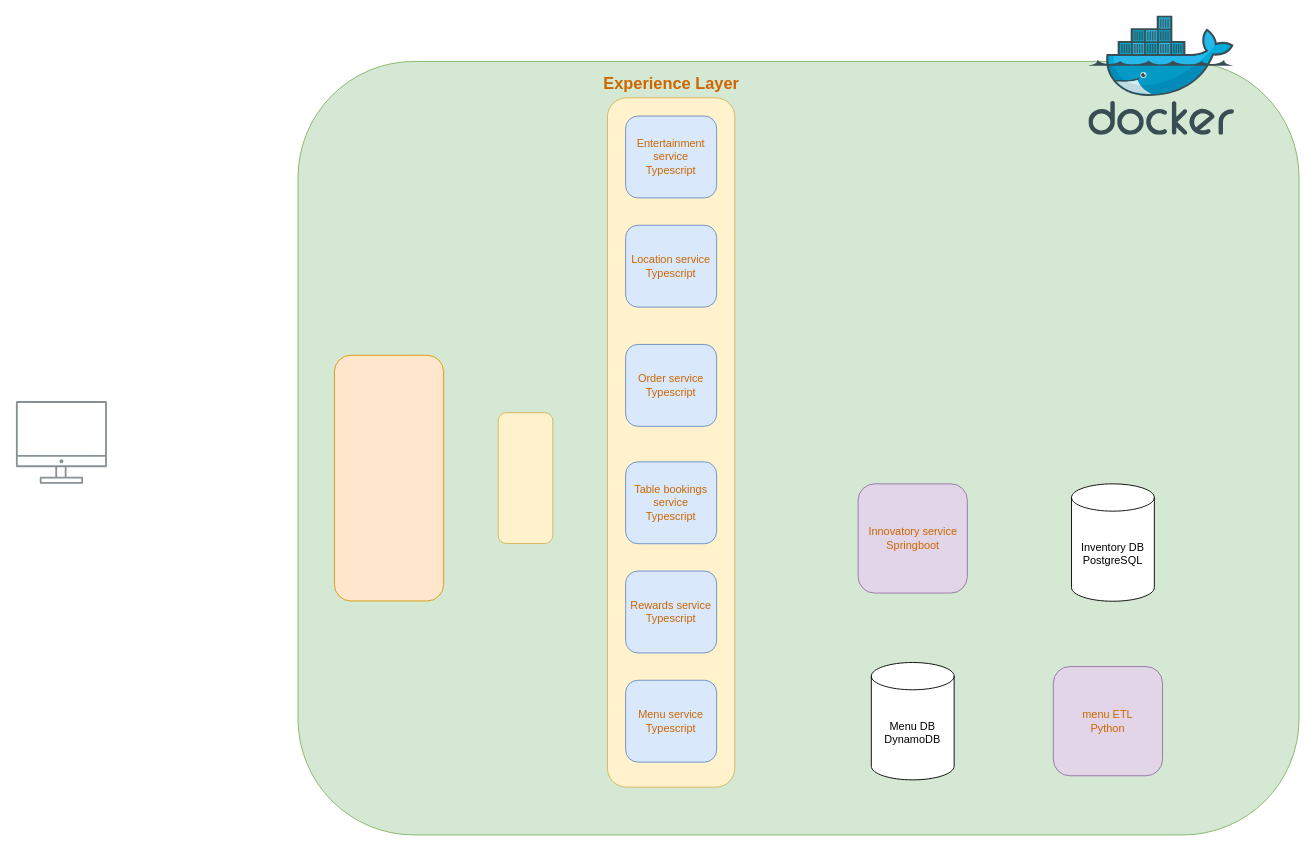
Some shapes in this 1315 by 851 pixel diagram are drawn without their labels. Each missing label, with the box of its shape:
desktop: (15, 401, 106, 483)
Frontend SPA: (334, 354, 444, 601)
Gateway: (497, 412, 553, 544)
